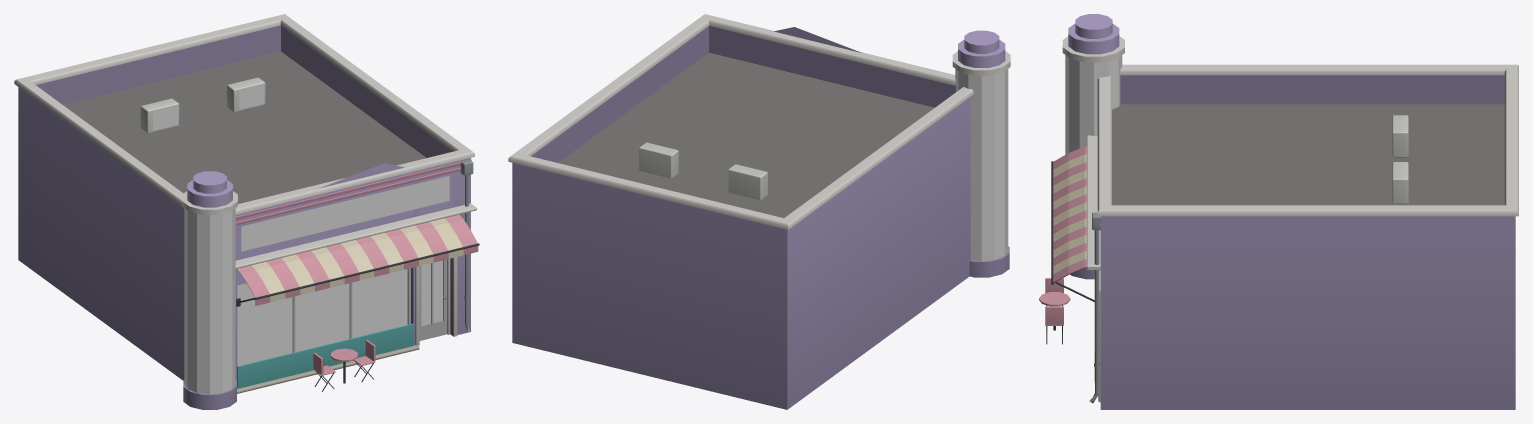
The model's file is DecoIceFL.fbx.
3 renders of one model, left to right at view 1: azimuth 30°, elevation 25°; view 2: azimuth 150°, elevation 25°; view 3: azimuth 270°, elevation 25°, orthographic. The views are drawn at different scales.
Parts seen in each view (by area): view 1: DecoIceFL; view 2: DecoIceFL; view 3: DecoIceFL.
Boxes of the visible parts, x1,y1,x2,y2 form: DecoIceFL: [14, 14, 479, 409]; DecoIceFL: [508, 14, 1010, 409]; DecoIceFL: [1039, 14, 1518, 409].
Size of the model in its own units: 8.1 by 5.93 by 10.41.
